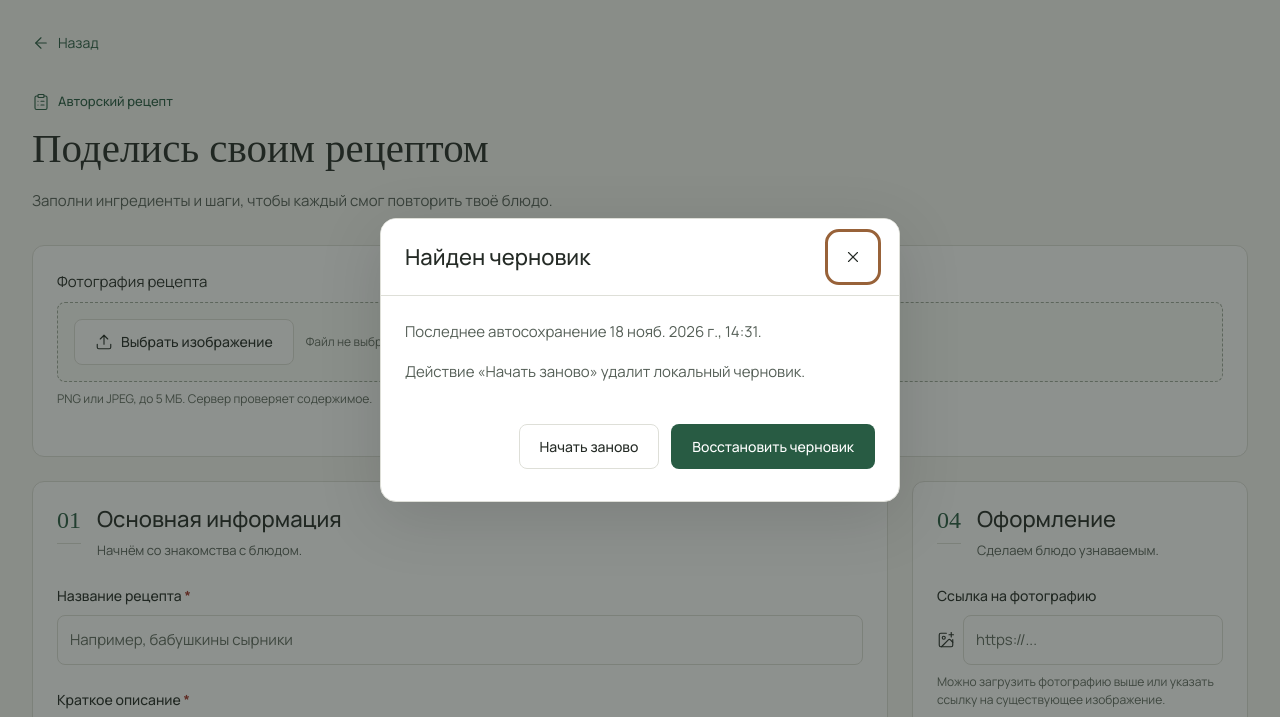
Test case: отделяет создание, редактирование каждого рецепта и разных пользователей, сохраняя привязку при смене email
Earlier steps of the test are not shown.
Later steps or results of the test are not shown.
Expected: the field labelled "Название рецепта *" is empty, 57,615 -> 863,665
Click the button "Восстановить черновик" at (773, 446), box 671,424 -> 875,469
(page scrolled)
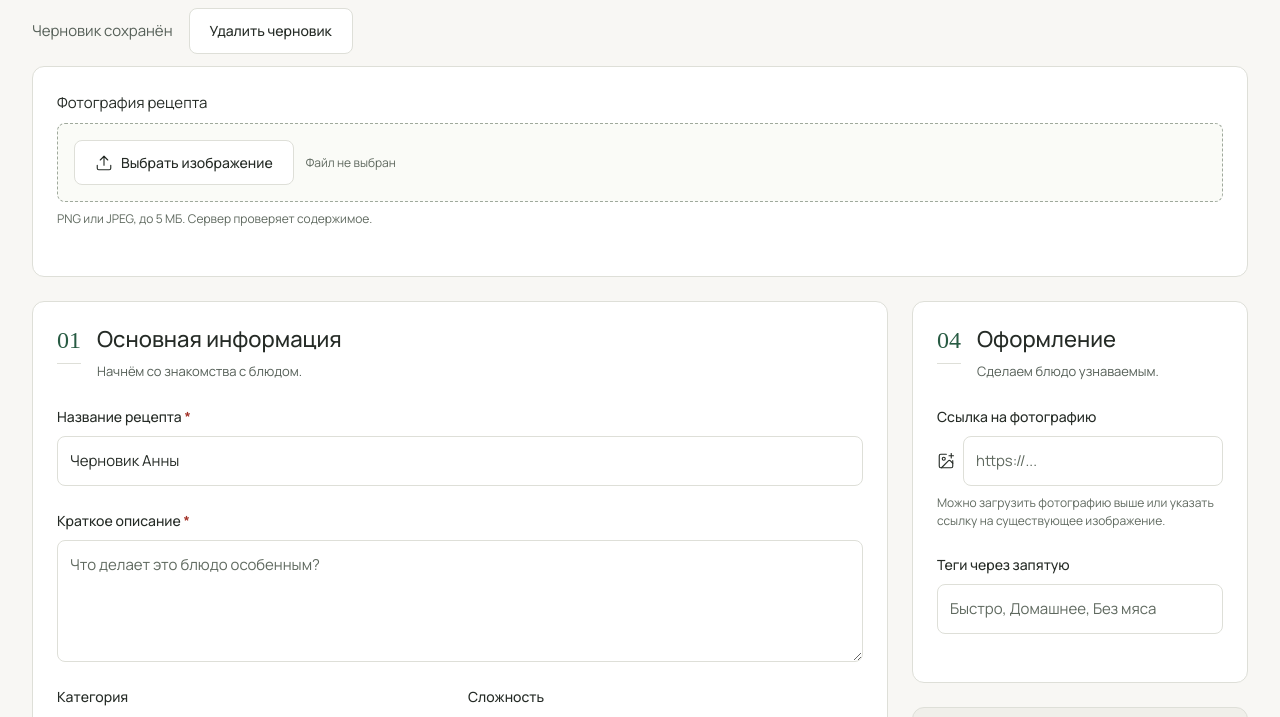
Expected: the field labelled "Название рецепта *" holds "Черновик Анны", 57,436 -> 863,486
